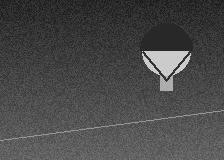helmet: (140, 23, 192, 80)
